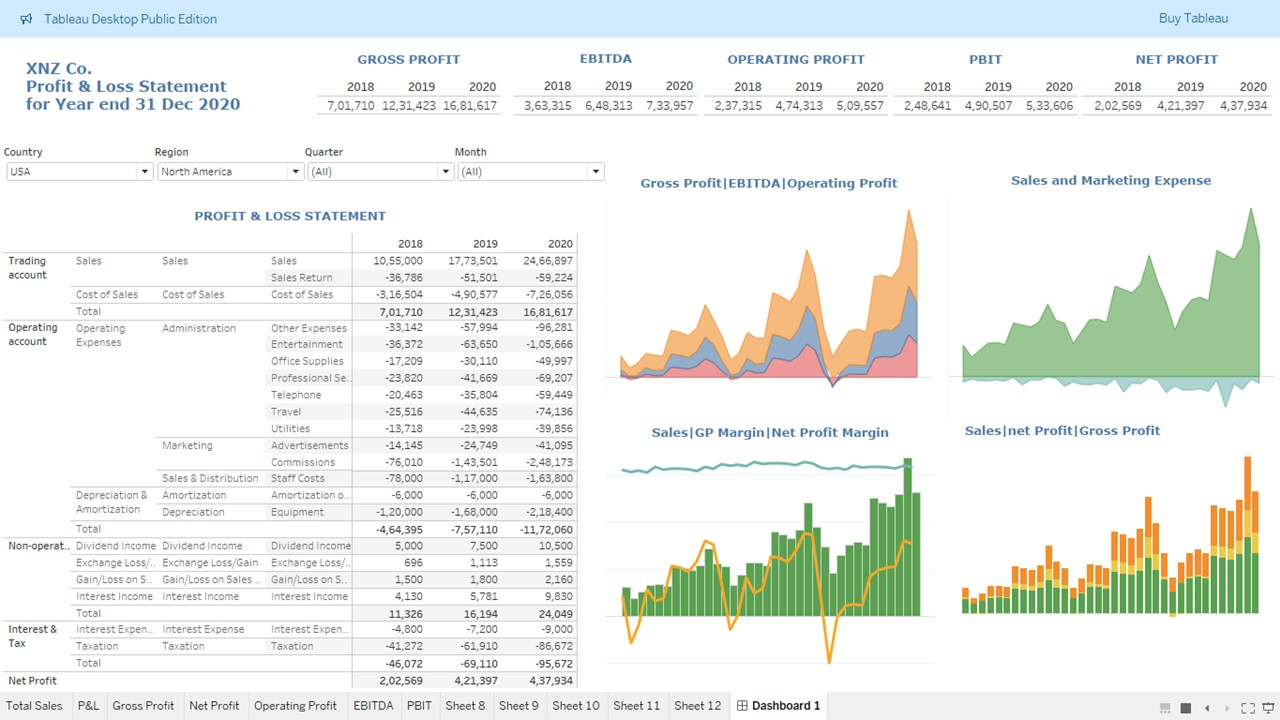

The dashboard page shown, as its layout file describes it:
{"tool":"tableau","page":{"name":"Dashboard 1","canvas":[1000,1000],"units":"permille","ordinal":0},"visuals":[{"type":"title","box":[18.7,3.6,207.5,144.1]},{"type":"worksheet","title":"EBITDA","mark":"Automatic","cols":["Date (Calendar)"],"box":[401.5,14.2,150,142.3]},{"type":"worksheet","title":"Gross Profit","mark":"Automatic","cols":["Date (Calendar)"],"box":[247.8,16,153.7,142.3]},{"type":"worksheet","title":"Operating Profit","mark":"Automatic","cols":["Date (Calendar)"],"box":[550,16,148.5,144.1]},{"type":"worksheet","title":"PBIT","mark":"Automatic","cols":["Date (Calendar)"],"box":[697.8,16,147,172.6]},{"type":"worksheet","title":"Net Profit","mark":"Automatic","cols":["Date (Calendar)"],"box":[844.8,16,153.7,138.8]},{"type":"filter","title":"P&L","param":"[federated.1eqq2k51r41y211ffzjnn1qv825l].[none:Country:nk]","box":[3,163.7,119.4,106.8]},{"type":"filter","title":"P&L","param":"[federated.1eqq2k51r41y211ffzjnn1qv825l].[none:Region:nk]","box":[120.9,163.7,119.4,92.5]},{"type":"filter","title":"P&L","param":"[federated.1eqq2k51r41y211ffzjnn1qv825l].[none:Quarter:nk]","box":[238.1,163.7,119.4,76.5]},{"type":"filter","title":"P&L","param":"[federated.1eqq2k51r41y211ffzjnn1qv825l].[none:Month:nk]","box":[355.2,163.7,119.4,83.6]},{"type":"worksheet","title":"Sheet 10","mark":"Area","cols":["Date (Calendar)"],"box":[740.3,201.1,254.6,379]},{"type":"worksheet","title":"Sheet 9","mark":"Area","cols":["Date (Calendar)"],"box":[472.7,204.6,254.6,343.4]},{"type":"worksheet","title":"P&L","mark":"Automatic","rows":["Class","SubClass","SubClass2","Account"],"cols":["Date (Calendar)"],"box":[2.2,254.5,473.1,740.2]},{"type":"worksheet","title":"Sheet 12","mark":"Bar","cols":["Date (Calendar)","Date (Calendar)","Date (Calendar)"],"box":[750.6,583.6,232.9,314.9]},{"type":"worksheet","title":"Sheet 11","mark":"Automatic","rows":["Calculation_327636875976085504"],"cols":["Date (Calendar)"],"box":[472.7,585.4,257.1,386.1]}]}

Visuals, with their boxes on the dashboard's canvas, which has no fixed pixel size, in thousandths of its width and height (x1, y1, x2, y2). These are canvas units, not pixel positions in the 1280x720 screenshot, which may show the page scaled, cropped or inside an application window:
title: l=19, t=4, r=226, b=148
"EBITDA" worksheet: l=402, t=14, r=552, b=156
"Gross Profit" worksheet: l=248, t=16, r=402, b=158
"Operating Profit" worksheet: l=550, t=16, r=698, b=160
"PBIT" worksheet: l=698, t=16, r=845, b=189
"Net Profit" worksheet: l=845, t=16, r=998, b=155
"P&L" filter: l=3, t=164, r=122, b=270
"P&L" filter: l=121, t=164, r=240, b=256
"P&L" filter: l=238, t=164, r=358, b=240
"P&L" filter: l=355, t=164, r=475, b=247
"Sheet 10" worksheet (Area marks): l=740, t=201, r=995, b=580
"Sheet 9" worksheet (Area marks): l=473, t=205, r=727, b=548
"P&L" worksheet: l=2, t=254, r=475, b=995
"Sheet 12" worksheet (Bar marks): l=751, t=584, r=984, b=898
"Sheet 11" worksheet: l=473, t=585, r=730, b=972
